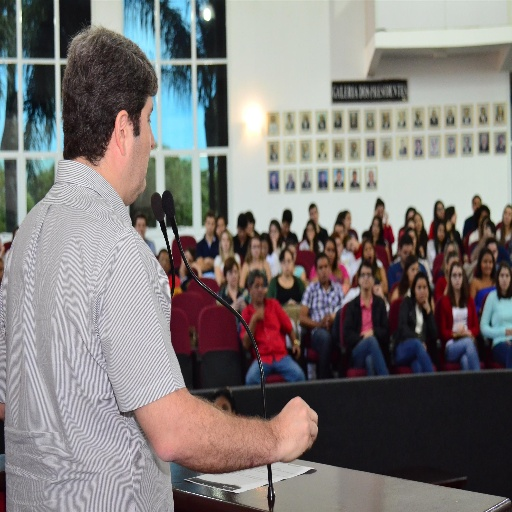hand: (274, 405, 325, 458), (292, 343, 301, 359), (483, 225, 492, 241), (191, 262, 200, 277), (372, 284, 382, 296), (256, 304, 263, 321), (237, 299, 247, 310), (324, 313, 333, 325), (422, 299, 430, 312), (318, 316, 327, 327), (231, 300, 237, 312), (364, 327, 373, 335), (466, 325, 472, 337), (459, 326, 467, 334), (504, 327, 511, 336)
